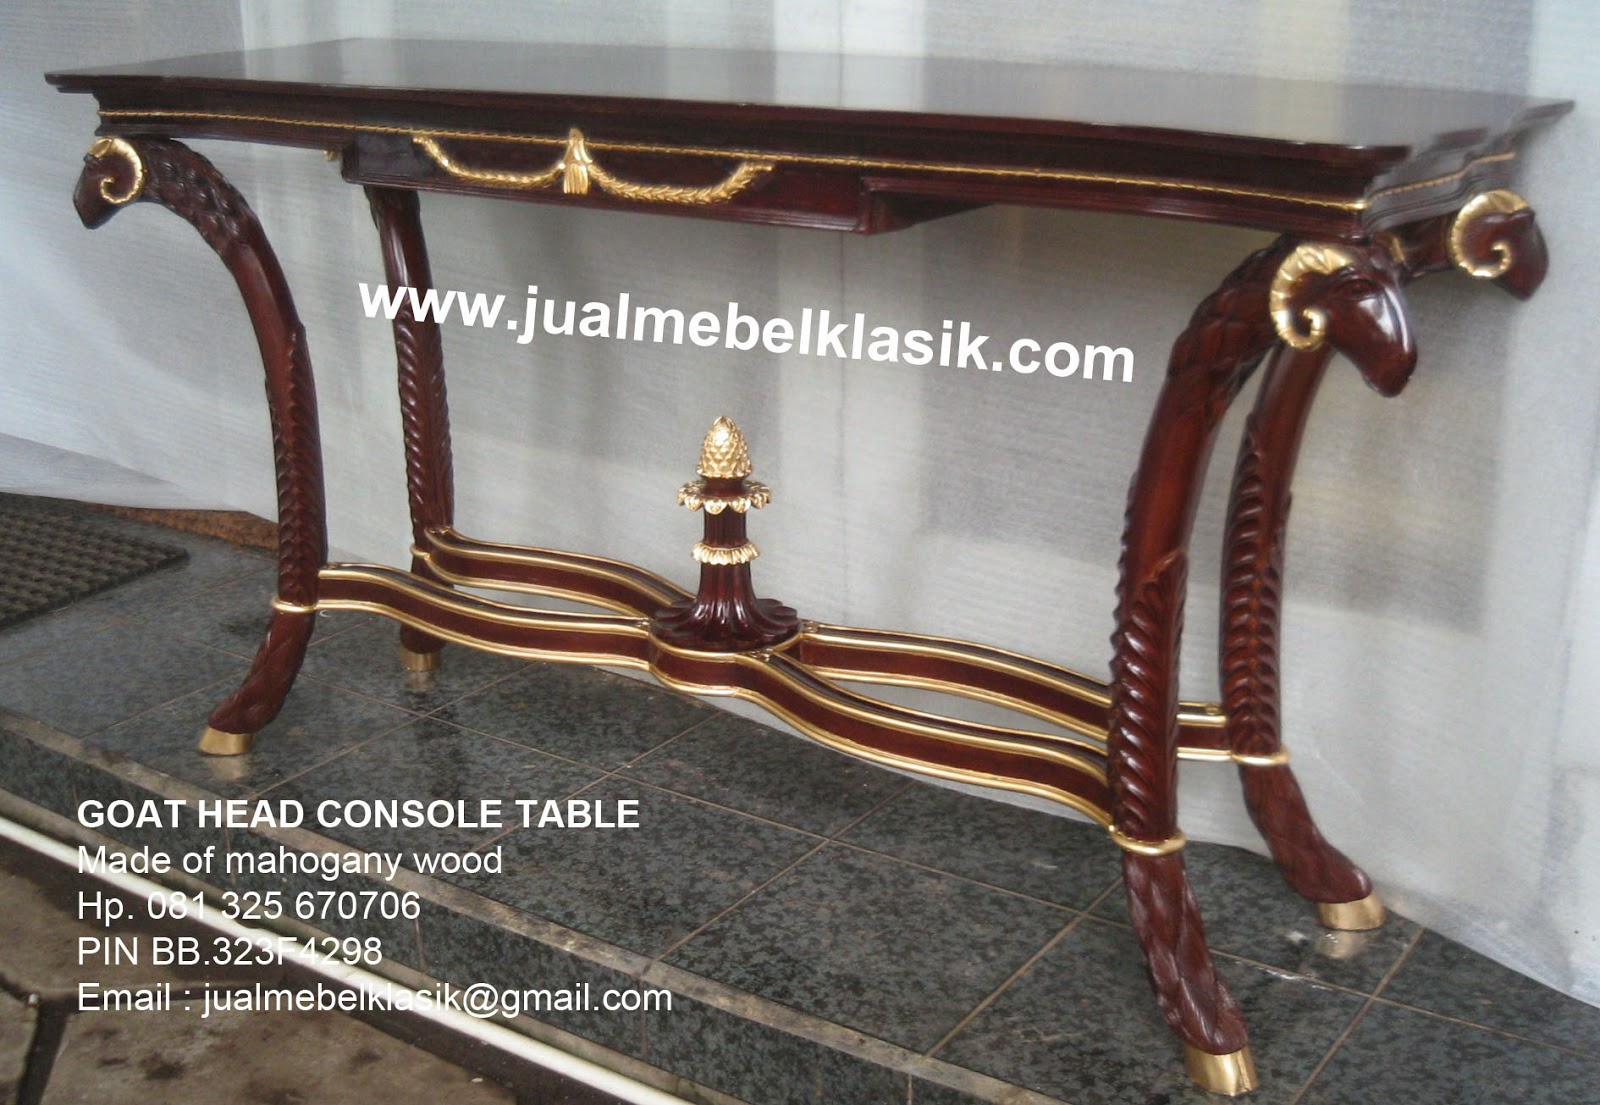Carving Table: (81, 32, 1523, 1025)
